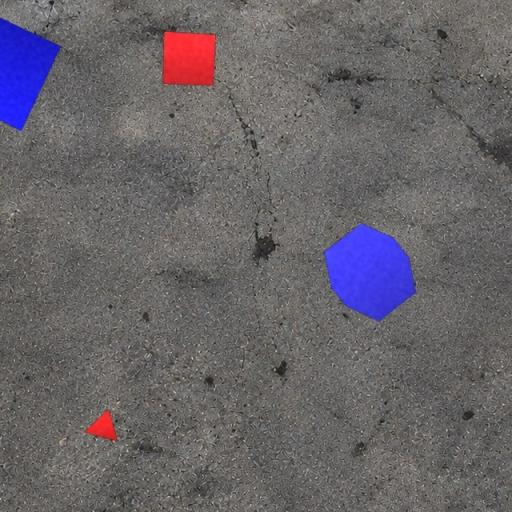BLUE_SQUARE: (0, 0, 62, 131)
RED_SQUARE: (162, 30, 216, 86)
